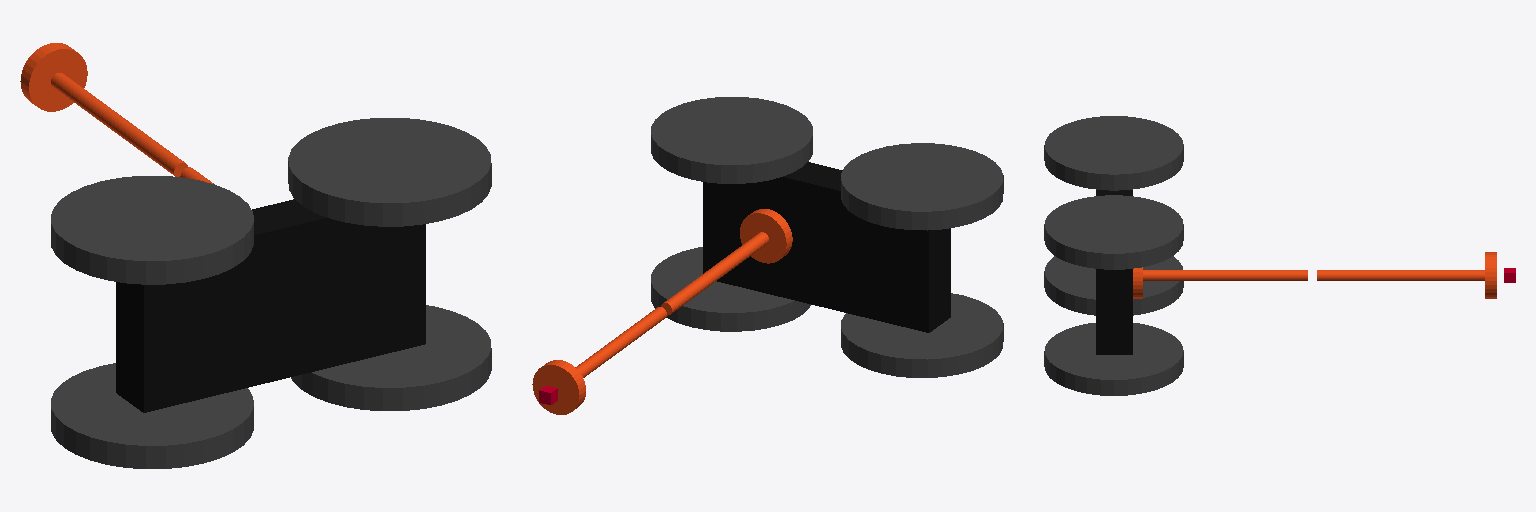
robot.urdf — rover:
<?xml version='1.0' encoding='utf-8'?>
<robot name="rover">

	<material name="red">
	<color rgba="0.8 0.0 0.2 1.0" />
	</material>

	<material name="orange">
	<color rgba="0.945 0.35 0.133 1.0" />
	</material>

	<link name="body_rover1">
		<collision group="default">
        	<origin rpy="0 0 0" xyz="0 0 0" />
        	<geometry>
           	<box size="0.960 .160 .490" />
        	</geometry>
      		</collision>
		<inertial>
		<mass value="40" />
  		<inertia ixx="3.29" ixy="0" ixz="0" iyy="3.16" iyz="0" izz="6.27" />
		</inertial>
  		<visual>
          	<origin rpy="0 0 0" xyz="0 0 0" />
          	<geometry>
            	<box size="0.960 .160 .490" />
          	</geometry>
			<material name="darkgray">
    			<color rgba="0.1 0.1 0.1 1.0"/>
  			</material>
  		</visual>
  	</link>

  <link name="arm0_base_rover1">
  <visual>
  	<origin rpy="0 0 0" xyz="0 0 -.1875" />
  	<geometry>
  	  <cylinder radius=".025" length=".375" />
  	 </geometry>
	 <material name="orange">
	   <color rgba="0.945 0.35 0.133 1.0" />
	 </material>
  </visual>
  <inertial>
     <mass value=".01" />
     <inertia ixx=".01" ixy="0" ixz="0" iyy=".001" iyz="0" izz=".01" />
  </inertial>
  <collision>
    	<origin rpy="0 0 0" xyz="0 0 -.1875" />
  	<geometry>
  	  <cylinder radius=".025" length=".375" />
  	 </geometry>
  </collision>
  </link>

  <link name="arm0_twist_rover1">
  <visual>
  	<origin rpy="0 0 0" xyz="0 0 -.55" />
  	<geometry>
  	  <cylinder radius=".025" length=".375" />
  	 </geometry>
	 	 <material name="orange">
	   <color rgba="0.945 0.35 0.133 1.0" />
	 </material>
  </visual>
  <inertial>
     <mass value=".01" />
     <inertia ixx=".01" ixy="0" ixz="0" iyy=".001" iyz="0" izz=".01" />
  </inertial>
  <collision>
    	<origin rpy="0 0 0" xyz="0 0 -.55" />
  	<geometry>
  	  <cylinder radius=".025" length=".375" />
  	 </geometry>
  </collision>
  </link>

  <link name="arm0_extension_rover1">
  <visual>
  	<origin rpy="0 0 0" xyz="0 0 0" />
  	<geometry>
  	  <cylinder radius=".025" length=".75" />
  	 </geometry>
	 	 <material name="orange">
	   <color rgba="0.945 0.35 0.133 1.0" />
	 </material>
  </visual>
  <inertial>
     <mass value=".01" />
     <inertia ixx=".01" ixy="0" ixz="0" iyy=".001" iyz="0" izz=".01" />
  </inertial>
  <collision>
    	<origin rpy="0 0 0" xyz="0 0 0" />
  	<geometry>
  	  <cylinder radius=".025" length=".75" />
  	 </geometry>
  </collision>
  </link>

  <link name="arm0_base_turret_rover1">
  <visual>
  <origin rpy="0 0 0" xyz="0 0 0" />
  	<geometry>
  	  <cylinder radius=".1" length=".05" />
  	 </geometry>
	 	 <material name="orange">
	   <color rgba="0.945 0.35 0.133 1.0" />
	 </material>
  </visual>
  <inertial>
     <mass value=".01" />
     <inertia ixx=".01" ixy="0" ixz="0" iyy=".001" iyz="0" izz=".01" />
  </inertial>
  <collision>
    	<origin rpy="0 0 0" xyz="0 0 0" />
  	<geometry>
  	  <cylinder radius=".1" length=".05" />
  	 </geometry>
  </collision>
  </link>

  <link name="arm0_extension_turret_rover1">
  <visual>
  <origin rpy="0 0 0" xyz="0 0 0" />
  	<geometry>
  	  <cylinder radius=".1" length=".05" />
  	 </geometry>
	<material name="orange">
	   <color rgba="0.945 0.35 0.133 1.0" />
	</material>
  </visual>
  <inertial>
     <mass value=".01" />
     <inertia ixx=".01" ixy="0" ixz="0" iyy=".001" iyz="0" izz=".01" />
  </inertial>
  <collision>
    	<origin rpy="0 0 0" xyz="0 0 0" />
  	<geometry>
  	  <cylinder radius=".1" length=".05" />
  	 </geometry>
  </collision>
  </link>

  <link name="arm0_block_rover1">
  <visual>
  <origin rpy="0 0 0" xyz="0 0 0" />
  	<geometry>
  	  <box size=".05 .05 .05" />
  	 </geometry>
     <material name="red" />
  </visual>
  <inertial>
     <mass value=".01" />
     <inertia ixx=".01" ixy="0" ixz="0" iyy=".001" iyz="0" izz=".01" />
  </inertial>
  <collision>
    	<origin rpy="0 0 0" xyz="0 0 0" />
  	<geometry>
  	    <box size=".05 .05 .05" />
  	 </geometry>
  </collision>
  </link>

  <joint name="body_to_arm0_turret_rover1" type="continuous">
  	<parent link="body_rover1" />
  	<child link="arm0_base_turret_rover1" />
  	<axis xyz="0 0 1" />
  	<origin xyz=".2 .1 0" rpy="1.5707 0 0" />
  </joint>

  <joint name="arm0_base_to_turret_rover1" type="continuous">
  	<parent link="arm0_base_turret_rover1" />
  	<child link="arm0_base_rover1" />
  	<axis xyz="0 1 0" />
  	<origin xyz="0 0 0" rpy="0 0 0" />
  </joint>
  
  <joint name="arm0_base_to_twist_rover1" type="continuous">
  	<parent link="arm0_base_rover1" />
  	<child link="arm0_twist_rover1" />
  	<axis xyz="0 0 1" />
  	<origin xyz="0 0 0" rpy="0 0 0" />
  </joint>

  <joint name="arm0_twist_to_extension_rover1" type="prismatic">
  	<parent link="arm0_twist_rover1" />
  	<child link="arm0_extension_rover1" />
  	<origin xyz="0 0 -1.15" rpy="0 0 0" />
    <limit effort="1000" lower="0" upper="0.707" velocity="300" />
  </joint>
  
  <joint name="arm0_extension_to_turret_rover1" type="continuous">
  	<parent link="arm0_extension_rover1" />
  	<child link="arm0_extension_turret_rover1" />
  	<axis xyz="0 1 0" />
  	<origin xyz="0 0 -.375" rpy="0 0 0" />
  </joint>
  
  <joint name="arm0_extension_turret_to_block_rover1" type="continuous">
  	<parent link="arm0_extension_turret_rover1" />
  	<child link="arm0_block_rover1" />
  	<axis xyz="0 0 1" />
  	<origin xyz="0 0 -.08" rpy="0 0 0" />
  </joint>

	<joint name="front_right_joint_rover1" type="continuous">
    	<parent link="body_rover1" />
      	<child link="front_right_wheel_rover1" />
      	<origin xyz=".404 0 .3" rpy="0 0 0" />
      	<axis xyz="0 0 1" />
	</joint>
	<link name="front_right_wheel_rover1">
		<collision group="default">
        	<origin rpy="0 0 0" xyz="0 0 0" />
        	<geometry>
           	<cylinder length="0.076" radius="0.3" />
        	</geometry>
      		</collision>
		<visual>
          	<origin rpy="0 0 0" xyz="0 0 0" />
          	<geometry>
            	<cylinder length="0.076" radius="0.3" />
          	</geometry>
  			<material name="silver">
    			<color rgba="0.3 0.3 0.3 1.0"/>
  			</material>
		</visual>
		<inertial>
      		<mass value="2" />
      		<inertia ixx="0.02" ixy="0.0" ixz="0.0" iyy="0.02" iyz="0.0" izz="0.02" />
    		</inertial>
	</link>

	<joint name="front_left_joint_rover1" type="continuous">
    	<parent link="body_rover1" />
      	<child link="front_left_wheel_rover1" />
      	<origin xyz=".404 0 -.3" rpy="0 0 0" />
      	<axis xyz="0 0 1" />
	</joint>
	<link name="front_left_wheel_rover1">
		<collision group="default">
        	<origin rpy="0 0 0" xyz="0 0 0" />
        	<geometry>
           	<cylinder length="0.076" radius="0.3" />
        	</geometry>
      		</collision>
		<visual>
          	<origin rpy="0 0 0" xyz="0 0 0" />
          	<geometry>
            	<cylinder length="0.076" radius="0.3" />
          	</geometry>
  			<material name="silver">
    			<color rgba="0.3 0.3 0.3 1.0"/>
  			</material>
		</visual>
		<inertial>
      		<mass value="10" />
      		<inertia ixx="0.02" ixy="0.0" ixz="0.0" iyy="0.02" iyz="0.0" izz="0.02" />
    		</inertial>
	</link>

	<joint name="back_right_joint_rover1" type="continuous">
    	<parent link="body_rover1" />
      	<child link="back_right_wheel_rover1" />
      	<origin xyz="-.404 0 .3" rpy="0 0 0" />
      	<axis xyz="0 0 1" />
	</joint>
	<link name="back_right_wheel_rover1">
		<collision group="default">
        	<origin rpy="0 0 0" xyz="0 0 0" />
        	<geometry>
           	<cylinder length="0.076" radius="0.3" />
        	</geometry>
      		</collision>
		<visual>
          	<origin rpy="0 0 0" xyz="0 0 0" />
          	<geometry>
            	<cylinder length="0.076" radius="0.3" />
          	</geometry>
  			<material name="silver">
    			<color rgba="0.3 0.3 0.3 1.0"/>
  			</material>
		</visual>
		<inertial>
      		<mass value="2" />
      		<inertia ixx="0.02" ixy="0.0" ixz="0.0" iyy="0.02" iyz="0.0" izz="0.02" />
    		</inertial>
	</link>

	<joint name="back_left_joint_rover1" type="continuous">
    	<parent link="body_rover1" />
      	<child link="back_left_wheel_rover1" />
      	<origin xyz="-.404 0 -.3" rpy="0 0 0" />
      	<axis xyz="0 0 1" />
	</joint>
	<link name="back_left_wheel_rover1">
		<collision group="default">
        	<origin rpy="0 0 0" xyz="0 0 0" />
        	<geometry>
           	<cylinder length="0.076" radius="0.3" />
        	</geometry>
      		</collision>
		<visual>
          	<origin rpy="0 0 0" xyz="0 0 0" />
          	<geometry>
            	<cylinder length="0.076" radius="0.3" />
          	</geometry>
  			<material name="silver">
    			<color rgba="0.3 0.3 0.3 1.0"/>
  			</material>
		</visual>
		<inertial>
      		<mass value="2" />
      		<inertia ixx="0.02" ixy="0.0" ixz="0.0" iyy="0.02" iyz="0.0" izz="0.02" />
    		</inertial>
	</link>

  	<joint name="probe_joint_rover1" type="prismatic">
		<parent link="body_rover1" />
		<child link="probe_rover1" />
		<origin xyz="0 0 0" rpy="-1.5707 0 0" />
		<limit effort="1000" lower="-0.707" upper="0.707" velocity="300" />
  	</joint>

	<link name="probe_rover1">
		<collision group="default">
        	<origin rpy="0 0 0" xyz="0 0 0" />
        	<geometry>
           	<cylinder length=".4" radius="0.05" />
        	</geometry>
      		</collision>
		<visual>
          	<origin rpy="0 0 0" xyz="0 0 0" />
          	<geometry>
            	<cylinder length=".15" radius="0.05" />
          	</geometry>
          	<material name="black">
              	<color rgba="0 0 0 1" />
          	</material>
		</visual>
		<inertial>
      		<mass value="2" />
      		<inertia ixx="0.02" ixy="0.0" ixz="0.0" iyy="0.02" iyz="0.0" izz="0.02" />
    		</inertial>
	</link>
</robot>

--- Facts derived from the render (not from the file) ---
Views: 3 orthographic renders of the robot side by side, from view 1: azimuth 30°, elevation 25°; view 2: azimuth 150°, elevation 25°; view 3: azimuth 270°, elevation 25°.
Robot: rover — 12 links, 11 joints (9 continuous, 2 prismatic); root link body_rover1; default pose: all joints at 0.
Visible links, largest first — view 1: body_rover1, front_right_wheel_rover1, back_right_wheel_rover1, back_left_wheel_rover1, front_left_wheel_rover1, arm0_extension_turret_rover1, arm0_extension_rover1; view 2: body_rover1, back_right_wheel_rover1, front_right_wheel_rover1, back_left_wheel_rover1, front_left_wheel_rover1, arm0_extension_turret_rover1, arm0_base_turret_rover1, arm0_extension_rover1, arm0_twist_rover1, arm0_base_rover1; view 3: front_right_wheel_rover1, back_right_wheel_rover1, front_left_wheel_rover1, back_left_wheel_rover1, body_rover1, arm0_extension_rover1, arm0_twist_rover1, arm0_base_rover1, arm0_extension_turret_rover1.
Link boxes in pixels (x1=…): body_rover1: x1=116, y1=199, x2=425, y2=412; front_right_wheel_rover1: x1=288, y1=118, x2=491, y2=226; back_right_wheel_rover1: x1=51, y1=176, x2=253, y2=284; back_left_wheel_rover1: x1=51, y1=363, x2=253, y2=468; front_left_wheel_rover1: x1=291, y1=305, x2=491, y2=410; arm0_extension_turret_rover1: x1=20, y1=43, x2=87, y2=111; arm0_extension_rover1: x1=51, y1=73, x2=187, y2=176; body_rover1: x1=703, y1=162, x2=950, y2=332; back_right_wheel_rover1: x1=841, y1=143, x2=1003, y2=230; front_right_wheel_rover1: x1=651, y1=97, x2=812, y2=183; back_left_wheel_rover1: x1=841, y1=293, x2=1003, y2=377; front_left_wheel_rover1: x1=651, y1=247, x2=810, y2=331; arm0_extension_turret_rover1: x1=532, y1=360, x2=585, y2=414; arm0_base_turret_rover1: x1=740, y1=209, x2=792, y2=263; arm0_extension_rover1: x1=575, y1=307, x2=666, y2=377; arm0_twist_rover1: x1=661, y1=266, x2=722, y2=315; arm0_base_rover1: x1=713, y1=232, x2=768, y2=276; front_right_wheel_rover1: x1=1044, y1=195, x2=1183, y2=269; back_right_wheel_rover1: x1=1044, y1=116, x2=1183, y2=190; front_left_wheel_rover1: x1=1044, y1=323, x2=1183, y2=395; back_left_wheel_rover1: x1=1044, y1=256, x2=1183, y2=315; body_rover1: x1=1096, y1=190, x2=1132, y2=354; arm0_extension_rover1: x1=1317, y1=270, x2=1484, y2=280; arm0_twist_rover1: x1=1221, y1=270, x2=1307, y2=280; arm0_base_rover1: x1=1143, y1=270, x2=1223, y2=280; arm0_extension_turret_rover1: x1=1485, y1=252, x2=1496, y2=298.
Bounding box of the posed robot: 1.41 × 2.03 × 0.676 m (x, y, z).
Geometry: primitives only (box / cylinder / sphere), no mesh files.
